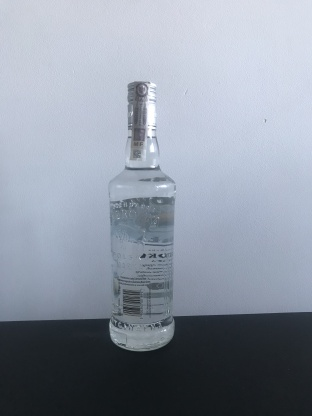nakretka: (124, 76, 159, 134)
